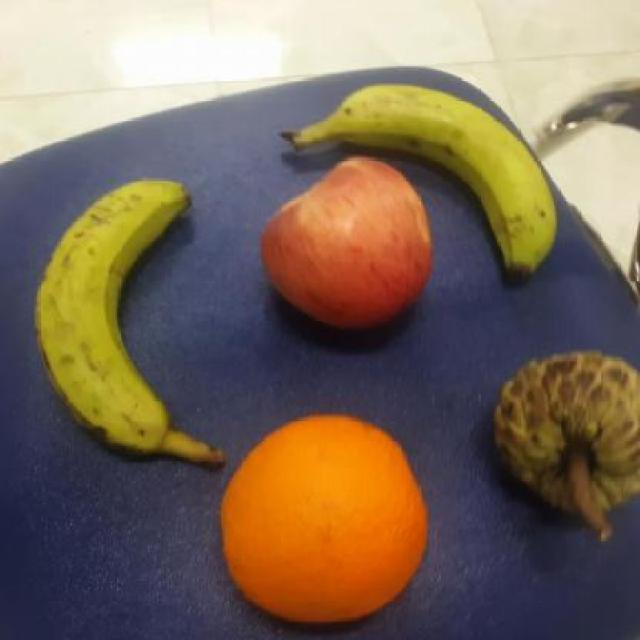apple: (253, 149, 438, 331)
banana: (29, 167, 188, 470), (341, 75, 558, 283)
oren: (221, 411, 425, 628)
sugar apple: (492, 348, 639, 523)
